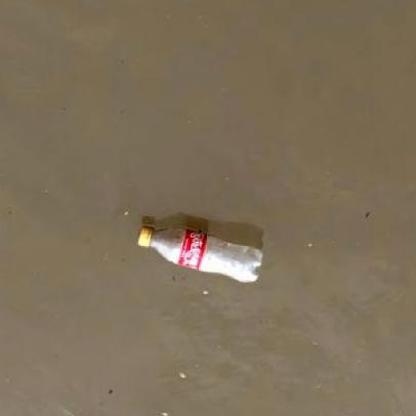plastic bottle: (137, 225, 262, 285)
